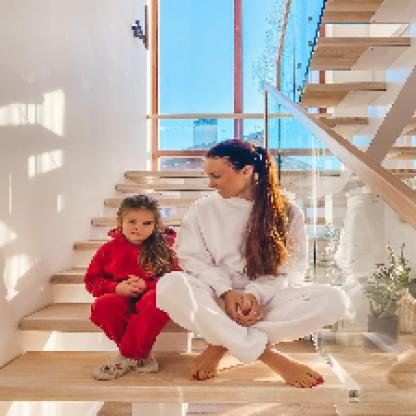child: (85, 194, 185, 382)
